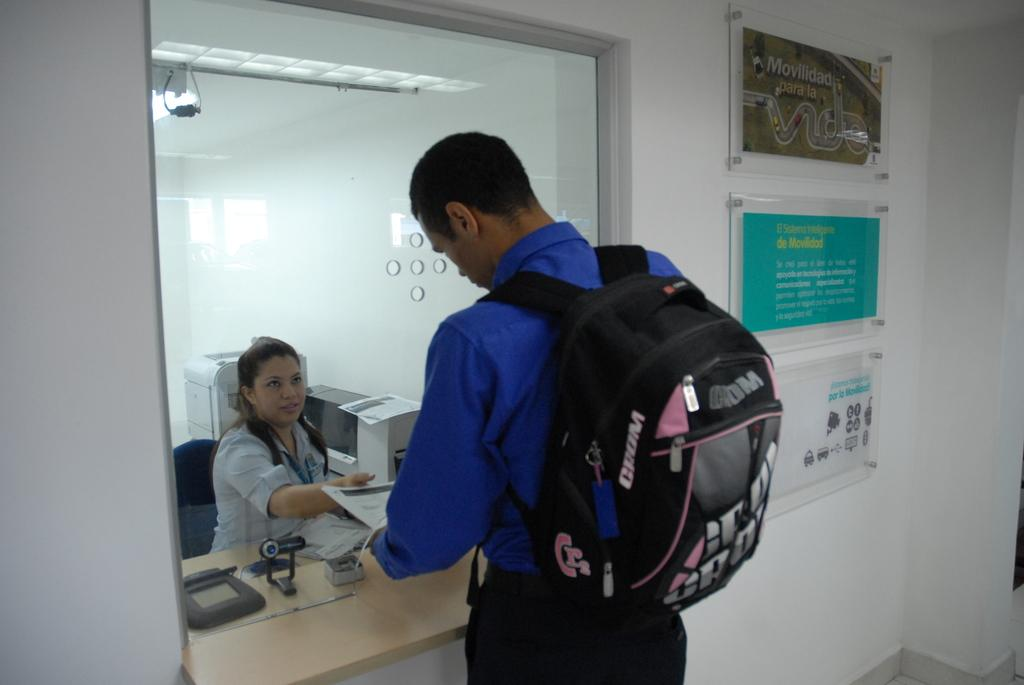Luggage-and-bags: (479, 240, 799, 624)
